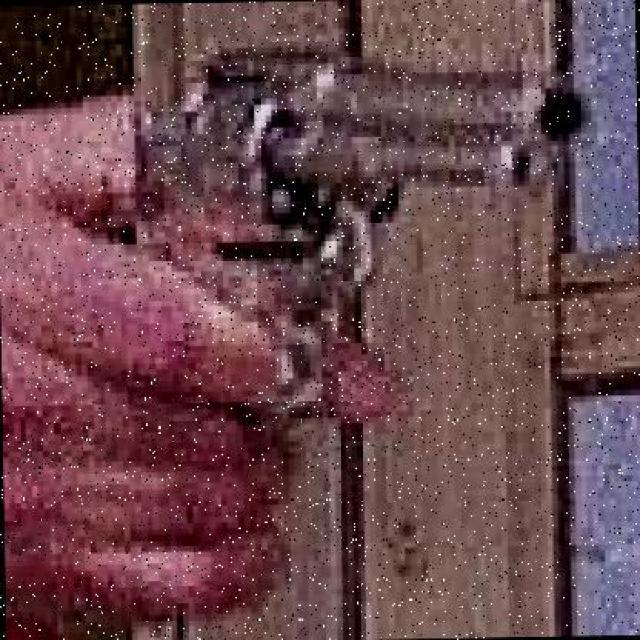rifle: (110, 36, 617, 368)
